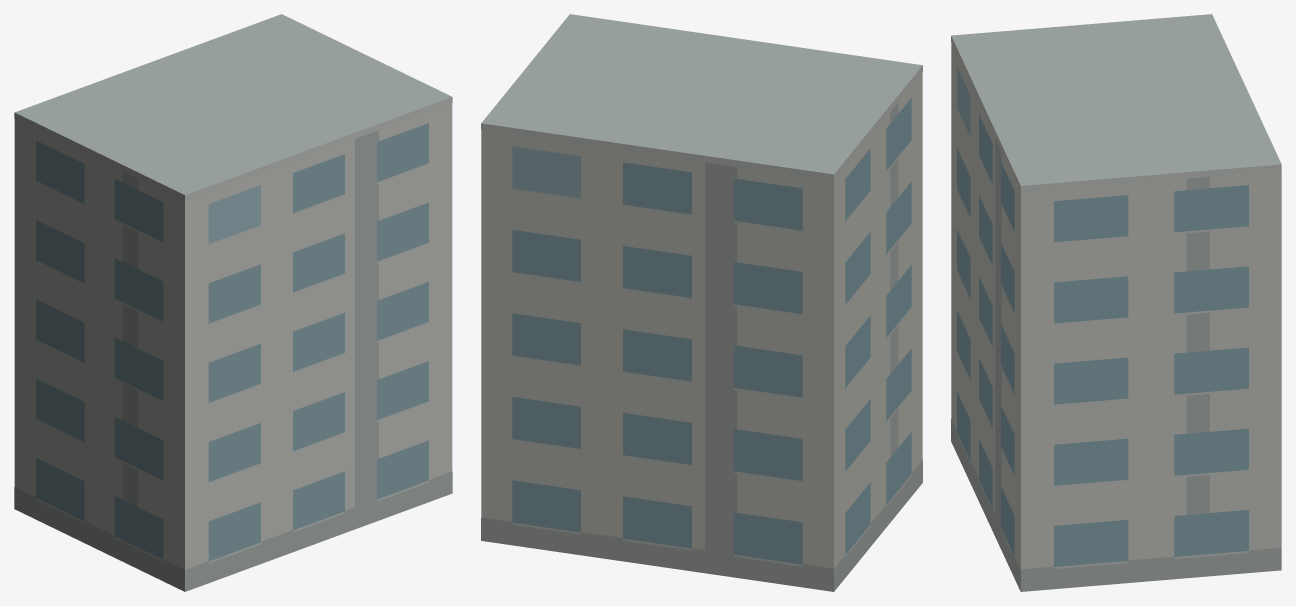
The model's file is residential-80b8c7f1-104f-48da-8947-7cb20653fb00.glb.
The picture shows the model from 3 angles, left to right: view 1: azimuth 30°, elevation 25°; view 2: azimuth 150°, elevation 25°; view 3: azimuth 270°, elevation 25°; orthographic projection. The views are drawn at different scales.
Visible parts, largest first — view 1: residential-80b8c7f1-104f-48da-8947-7cb20653fb00.tmp; view 2: residential-80b8c7f1-104f-48da-8947-7cb20653fb00.tmp; view 3: residential-80b8c7f1-104f-48da-8947-7cb20653fb00.tmp.
Boxes of the visible parts, <box> form: residential-80b8c7f1-104f-48da-8947-7cb20653fb00.tmp: <box>14,14,452,591</box>; residential-80b8c7f1-104f-48da-8947-7cb20653fb00.tmp: <box>481,14,922,591</box>; residential-80b8c7f1-104f-48da-8947-7cb20653fb00.tmp: <box>951,14,1281,591</box>.
Bounding box in the file's own units: 13.87 × 15.25 × 11.27.
